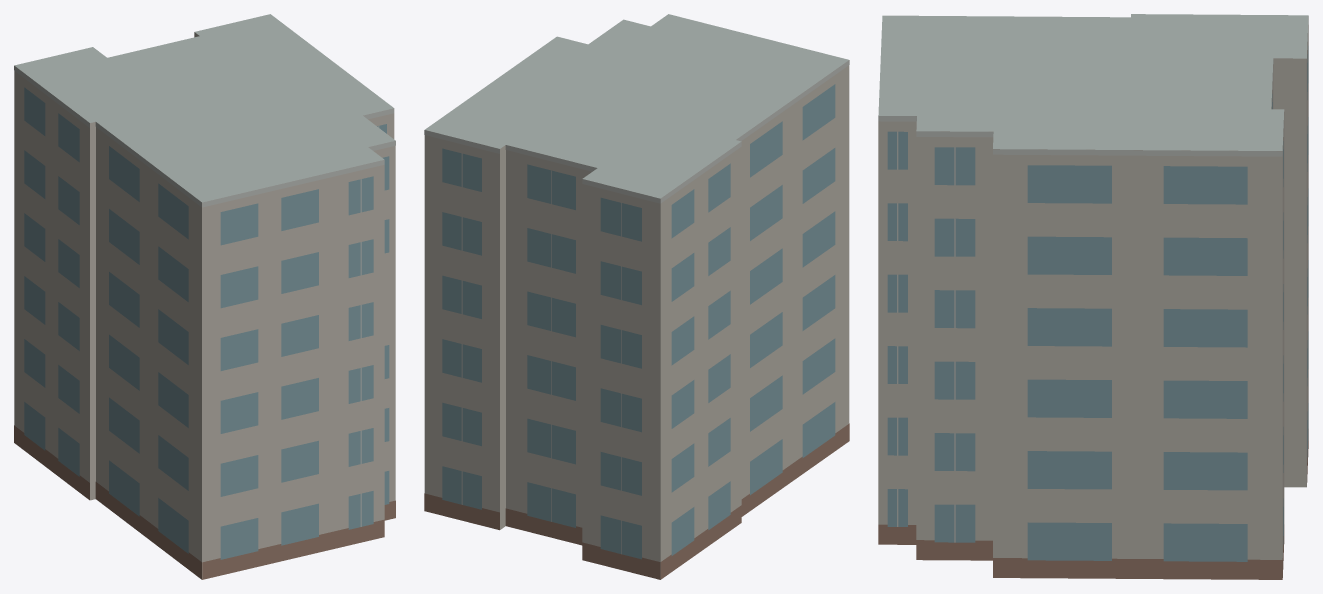
Rendered from survey-upis-32878672.glb.
3 views of the same model, side by side, from view 1: azimuth 30°, elevation 25°; view 2: azimuth 150°, elevation 25°; view 3: azimuth 270°, elevation 25° (orthographic). The views are drawn at different scales.
Visible parts, largest first — view 1: survey-upis-32878672.tmp; view 2: survey-upis-32878672.tmp; view 3: survey-upis-32878672.tmp.
Part boxes in pixels (x1=…): survey-upis-32878672.tmp: x1=14, y1=14, x2=395, y2=579; survey-upis-32878672.tmp: x1=424, y1=14, x2=849, y2=579; survey-upis-32878672.tmp: x1=878, y1=14, x2=1308, y2=579.
Bounding box in the file's own units: 12.66 × 18.45 × 16.78.
